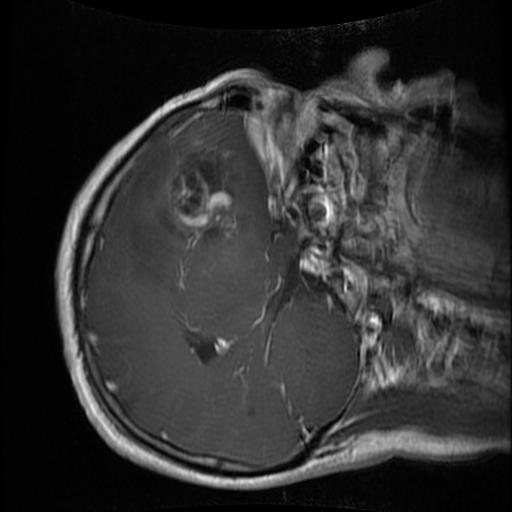glioma: (167, 147, 232, 248)
